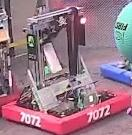red_number: (85, 103, 113, 125), (18, 110, 44, 129)
